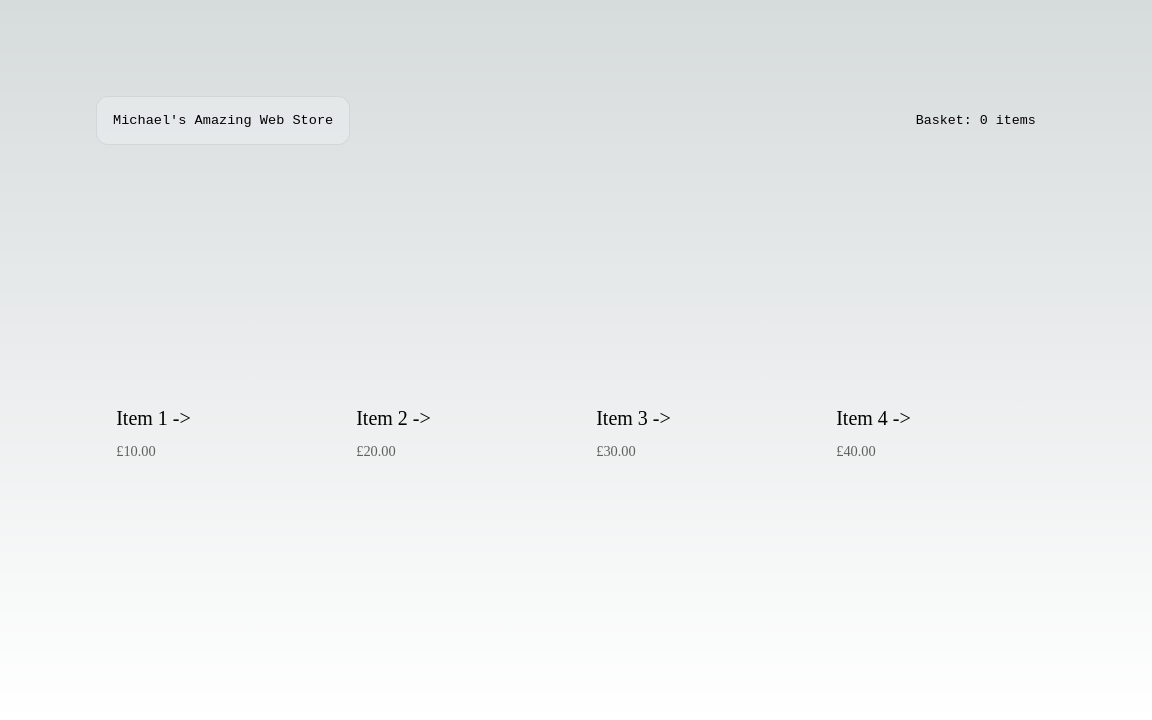
Test case: Home › renders a basket with 1 item
Click the button with aria-label "Add to basket" at (216, 435), box [96,390,336,480]
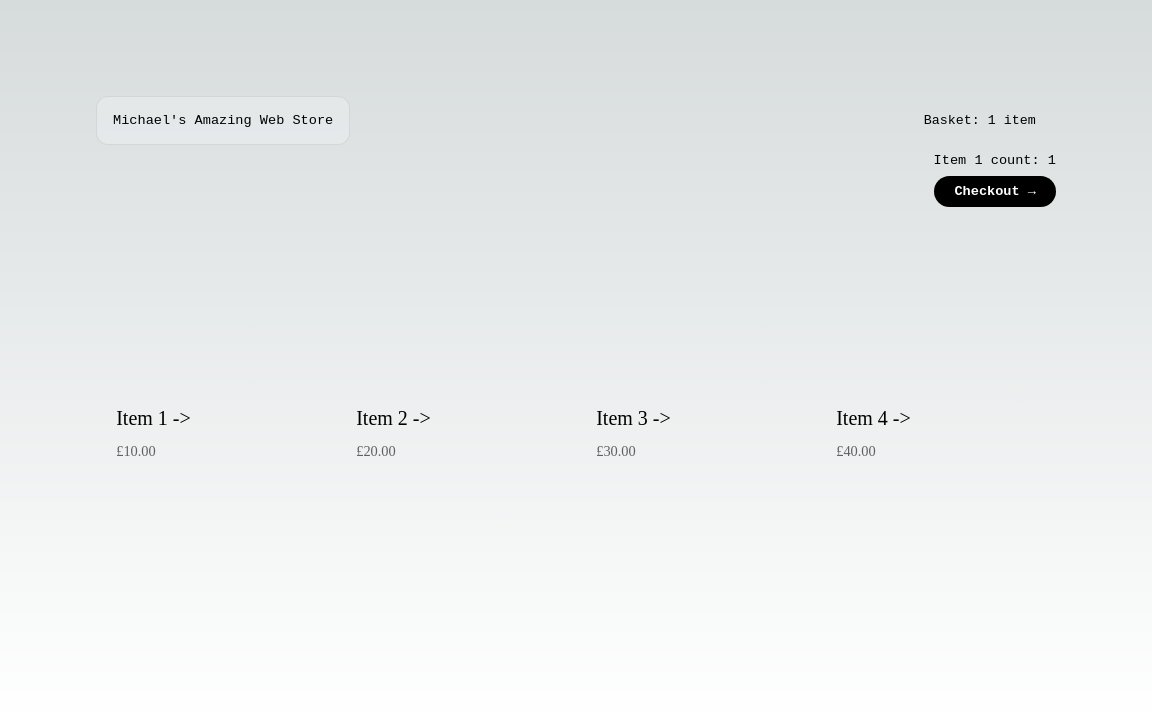
expect the button "Basket: 1 item" is shown: met, box [904,96,1056,145]
expect the element with test id "item-count-1" reads "Item 1 count: 1": met, box [934,153,1056,168]
